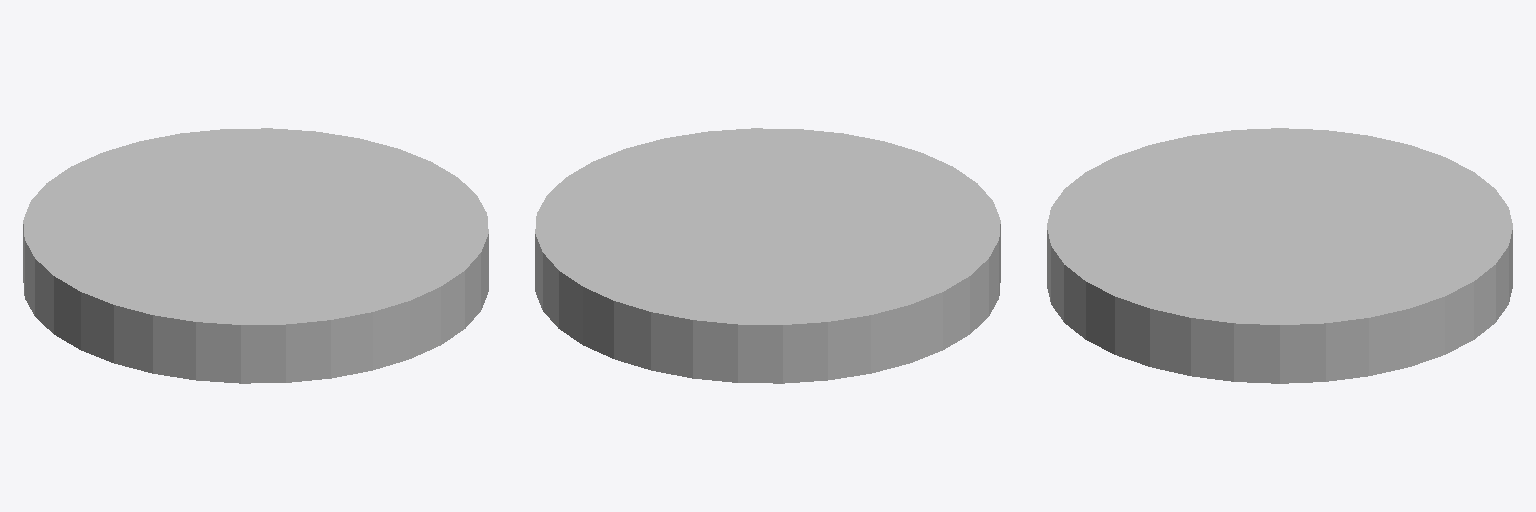
Rendered from piece_obj.obj.
3 renders of one model, left to right at view 1: azimuth 30°, elevation 25°; view 2: azimuth 150°, elevation 25°; view 3: azimuth 270°, elevation 25°, orthographic.
Visible parts, largest first — view 1: Cylinder; view 2: Cylinder; view 3: Cylinder.
Part boxes in pixels (bbox=[...]): Cylinder: bbox=[23, 128, 488, 383]; Cylinder: bbox=[535, 128, 1000, 383]; Cylinder: bbox=[1047, 128, 1512, 383].
Bounding box in the file's own units: 2 × 0.2768 × 2.